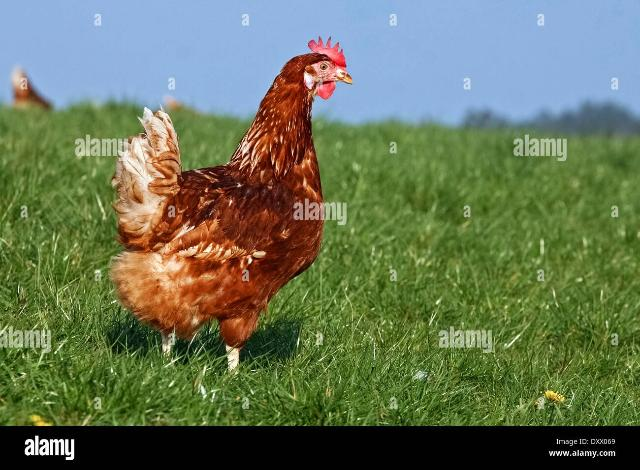Chicken: (110, 34, 352, 377)
